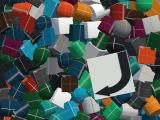Right: (86, 50, 136, 100)
